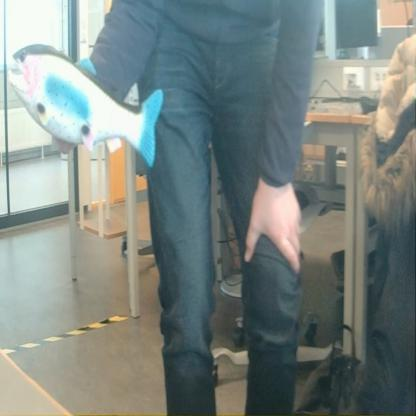rubberfish: (6, 35, 164, 171)
